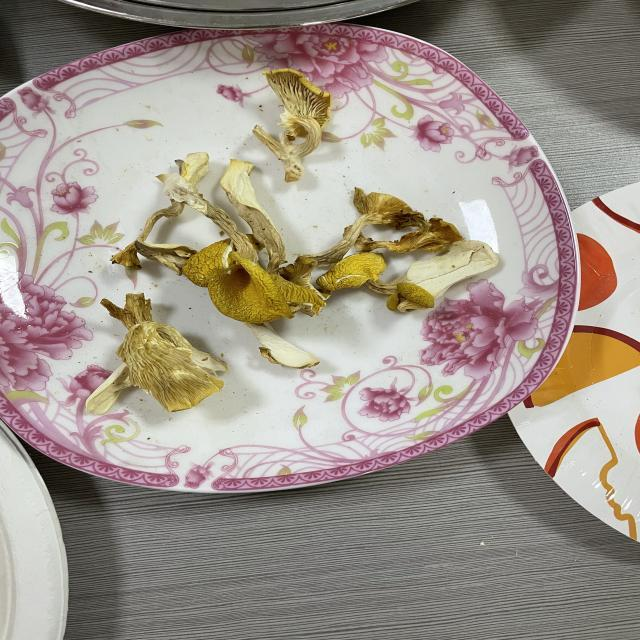Pleurotus citrinopileatus: (206, 106, 493, 397), (390, 310, 551, 416), (94, 230, 242, 290)
